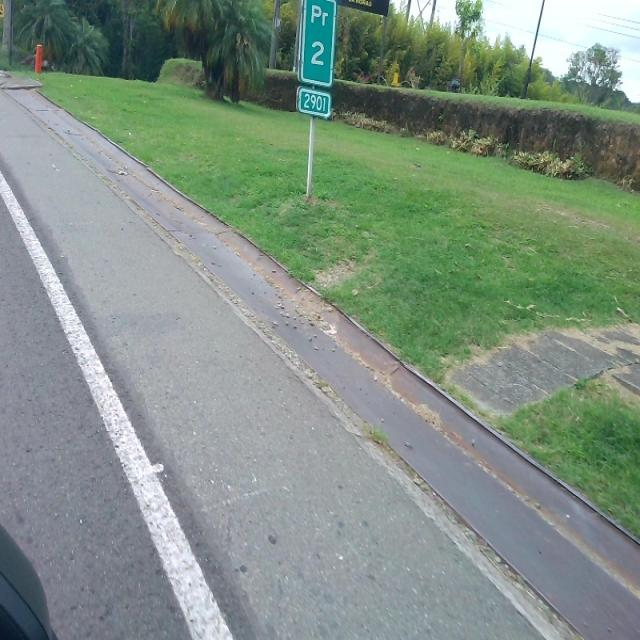DITCH: (1, 69, 638, 638)
